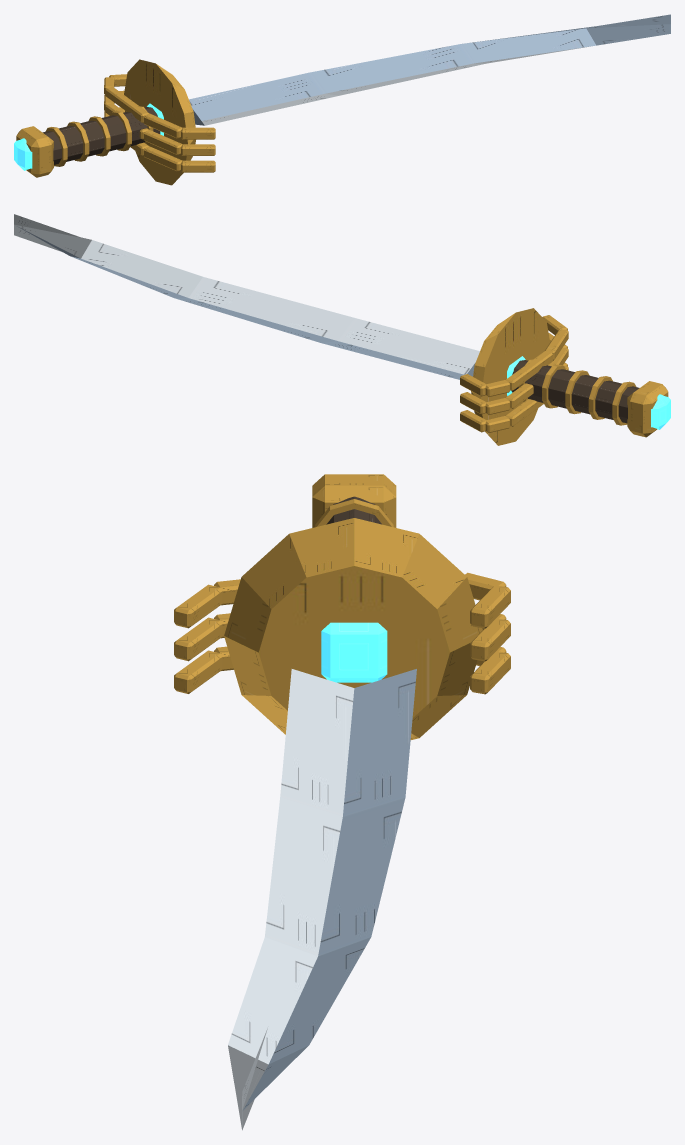
File: sabre.glb
The picture shows the model from 3 angles, top to bottom: view 1: azimuth 30°, elevation 25°; view 2: azimuth 150°, elevation 25°; view 3: azimuth 270°, elevation 25°; orthographic projection. The views are drawn at different scales.
Parts seen in each view (by area): view 1: blade, guard, grip; view 2: blade, guard, grip; view 3: guard, blade, grip.
Boxes of the visible parts, x1,y1,x2,y2 form: blade: [189, 14, 670, 125]; guard: [104, 59, 215, 185]; grip: [14, 106, 160, 177]; blade: [14, 214, 479, 379]; guard: [460, 308, 568, 445]; grip: [511, 359, 670, 437]; guard: [174, 518, 510, 739]; blade: [228, 669, 416, 1130]; grip: [312, 474, 396, 527].
Size of the model in its own units: 0.8755 by 0.158 by 0.2042.
5 materials, 5 textured.
